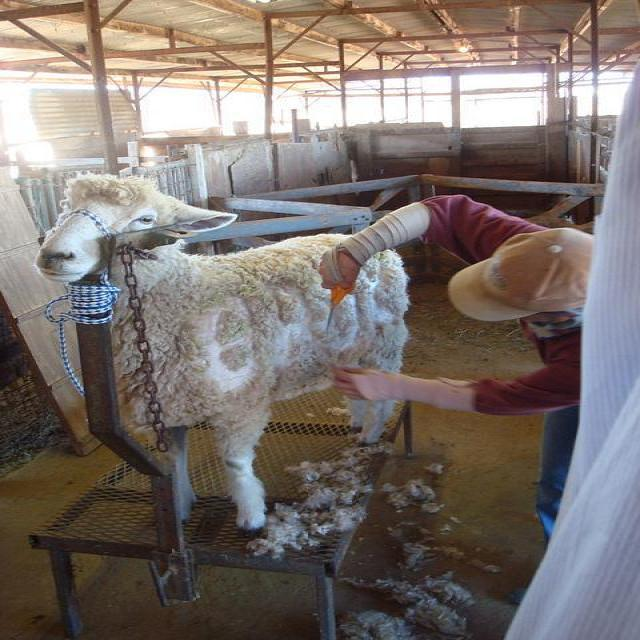Sheep: (39, 169, 408, 532)
